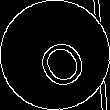O_NW: (23, 22, 87, 88)
